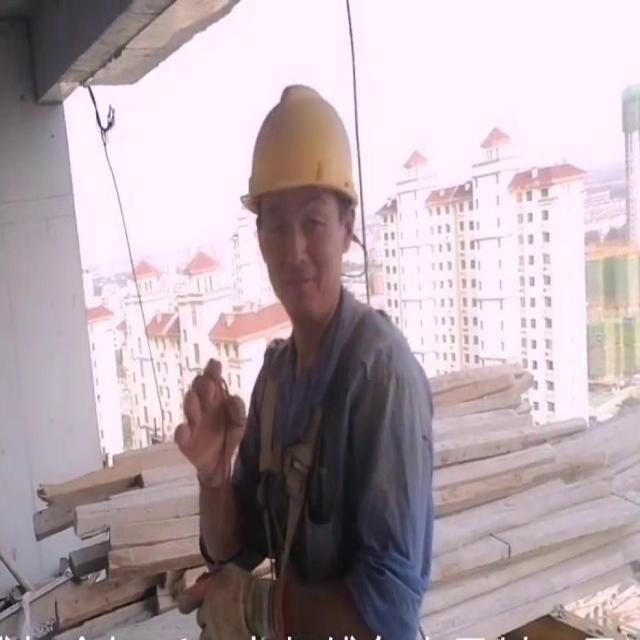Arnes_seguridad: (250, 285, 398, 580)
